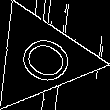O_SE: (4, 25, 77, 91)
